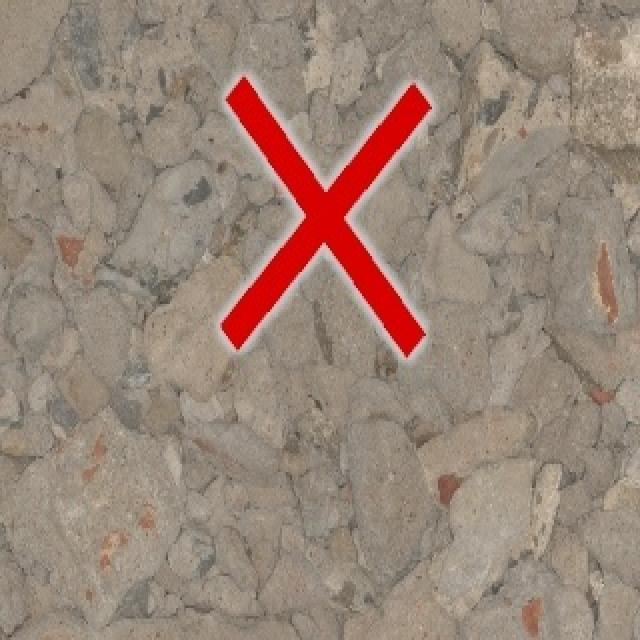x_marker: (219, 76, 431, 356)
